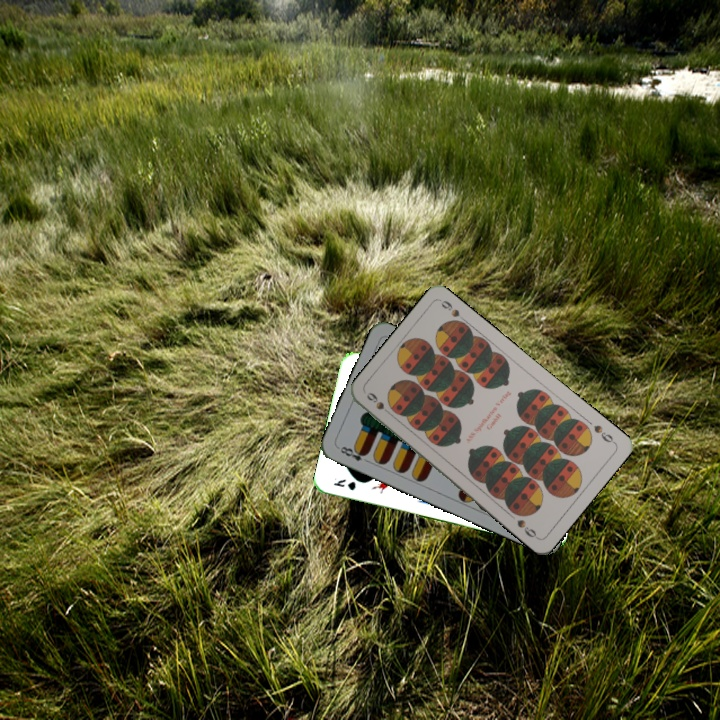E8: (334, 442, 372, 466)
GK: (330, 475, 358, 493)
S9: (362, 388, 396, 420), (590, 421, 618, 446)
